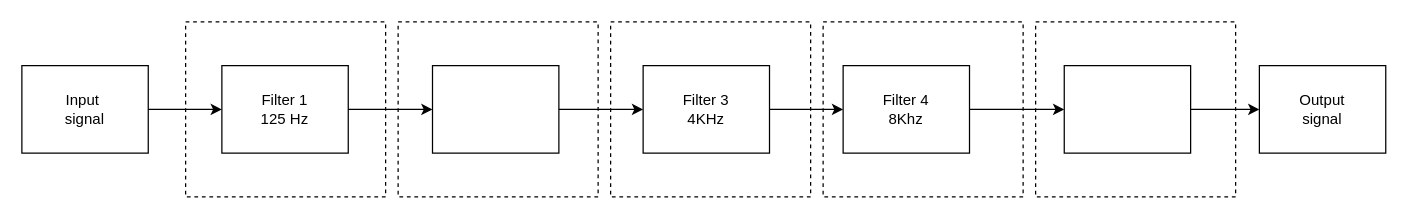
This 1409x219 diagram has some shape labels left out. Here are the shapes that lost their labels. From the top down, the centre of each, then its label:
point 495,108: Filter 2 500Hz
point 1127,108: Filter 5 16KHz
